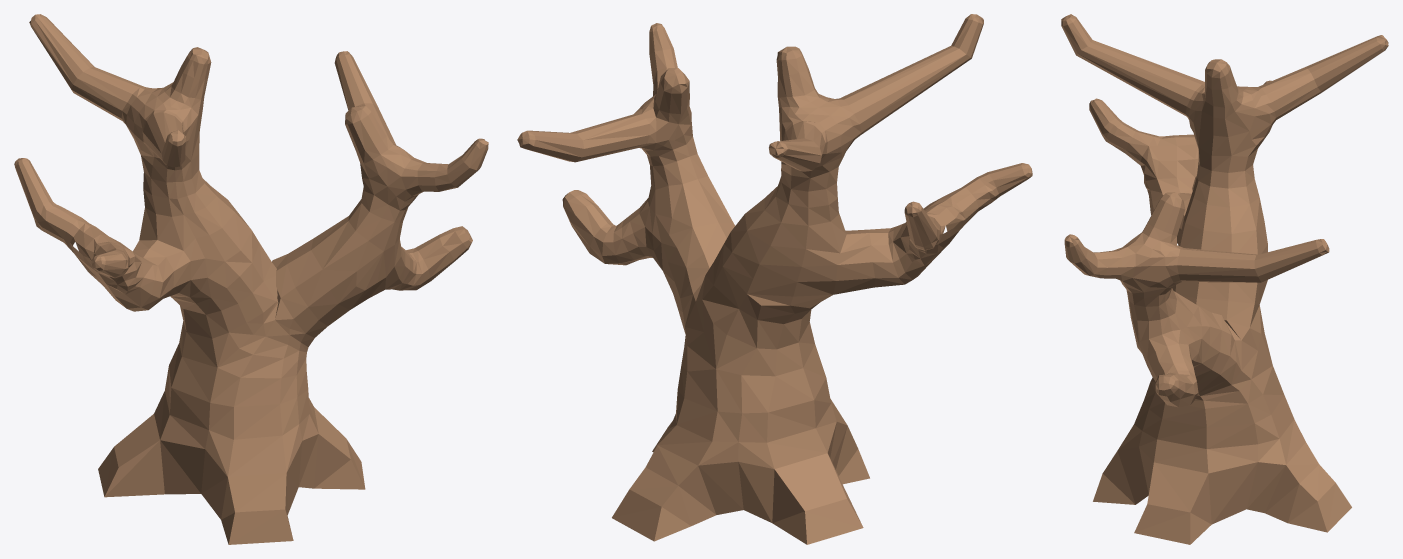
File: nat_deadtree.glb
3 views of the same model, side by side, from view 1: azimuth 30°, elevation 25°; view 2: azimuth 150°, elevation 25°; view 3: azimuth 270°, elevation 25° (orthographic). The views are drawn at different scales.
Visible parts, largest first — view 1: geometry_0; view 2: geometry_0; view 3: geometry_0.
Part boxes in pixels (bbox=[...]): geometry_0: bbox=[14, 14, 488, 544]; geometry_0: bbox=[517, 14, 1032, 544]; geometry_0: bbox=[1061, 14, 1388, 544].
Size of the model in its own units: 0.1343 by 0.1392 by 0.0967.
